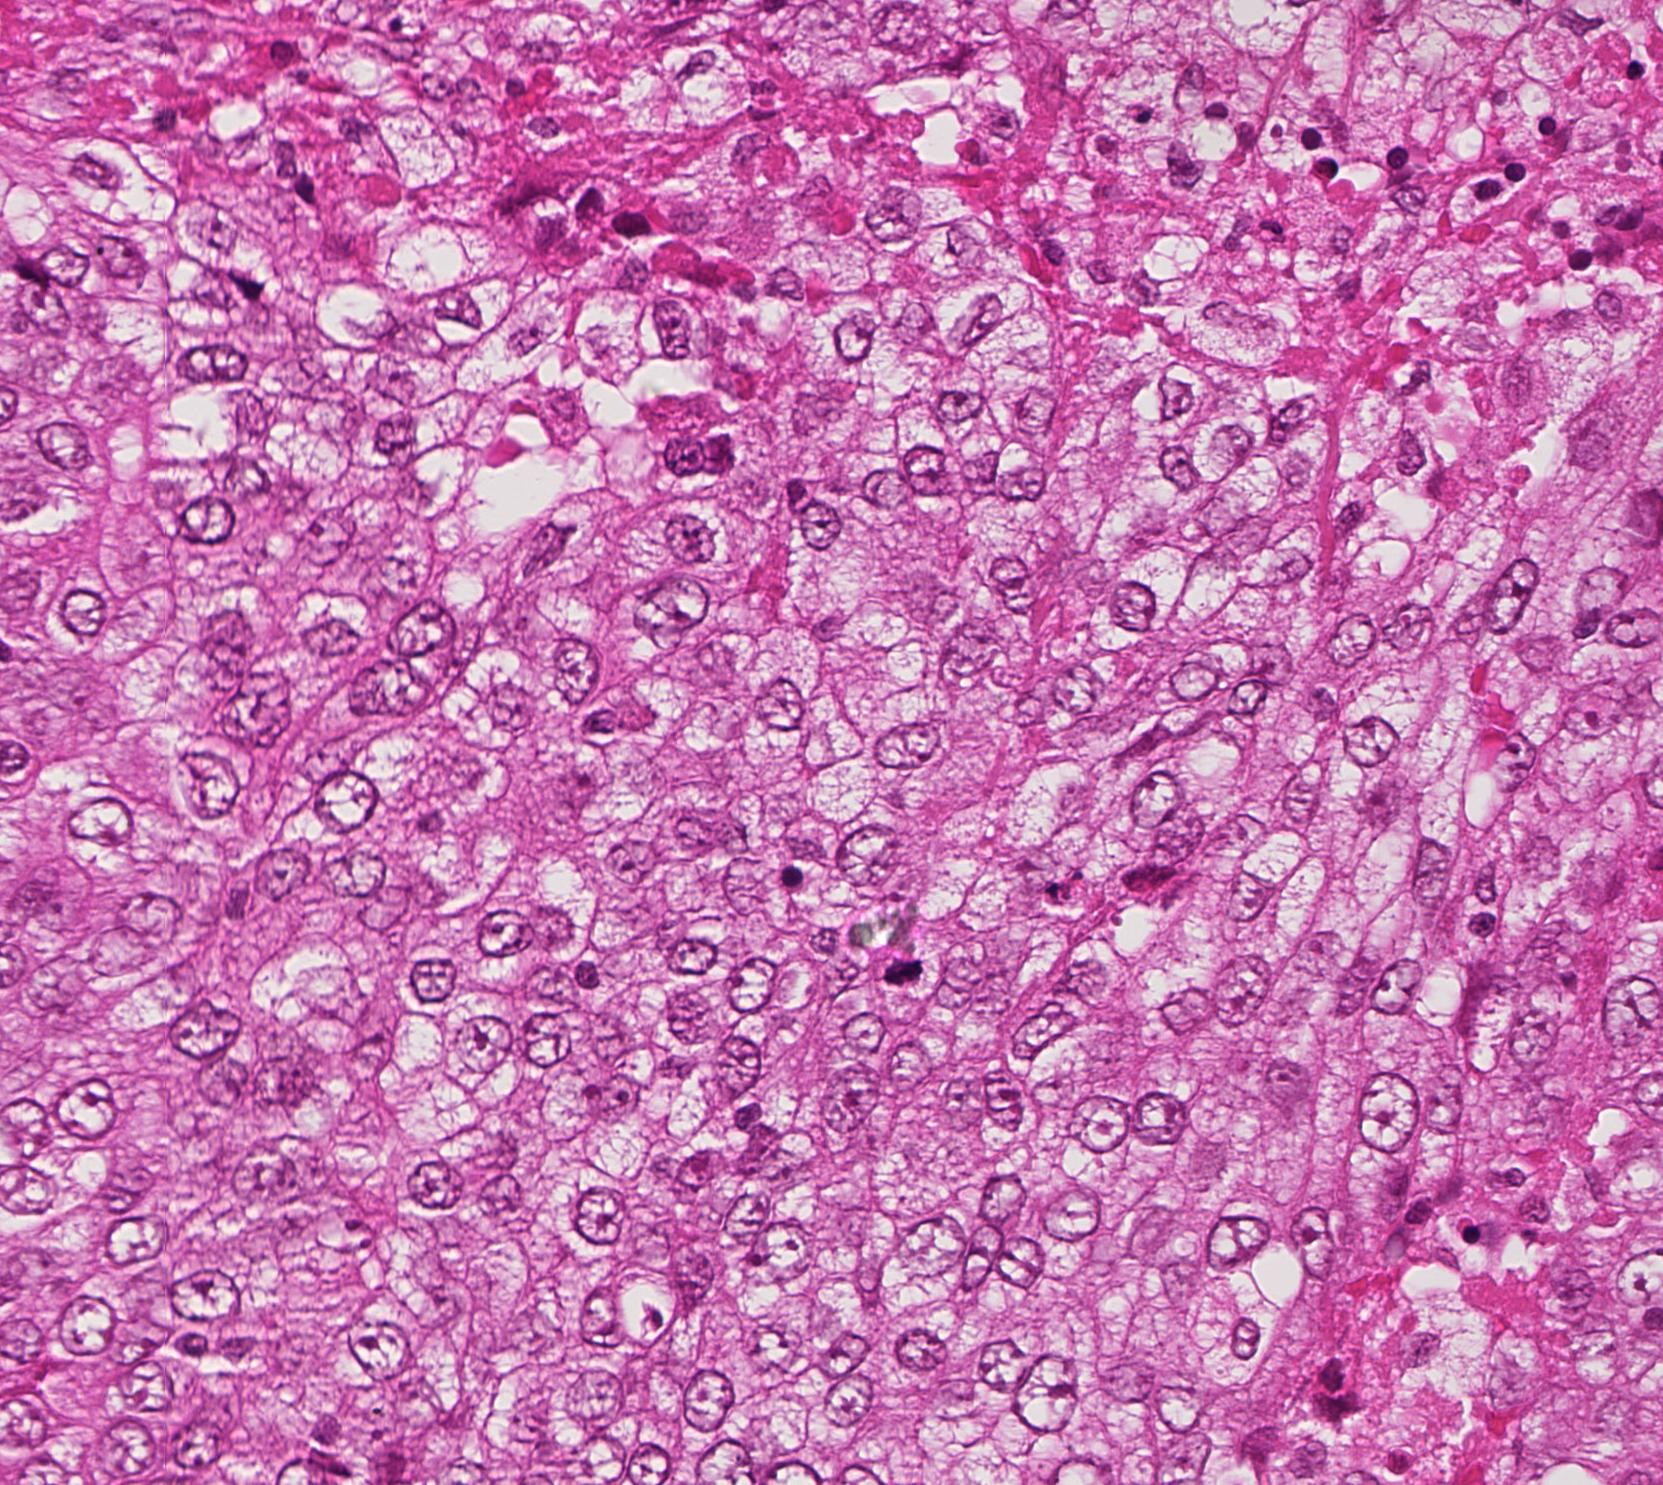mitosis: (883, 943, 943, 1003)
